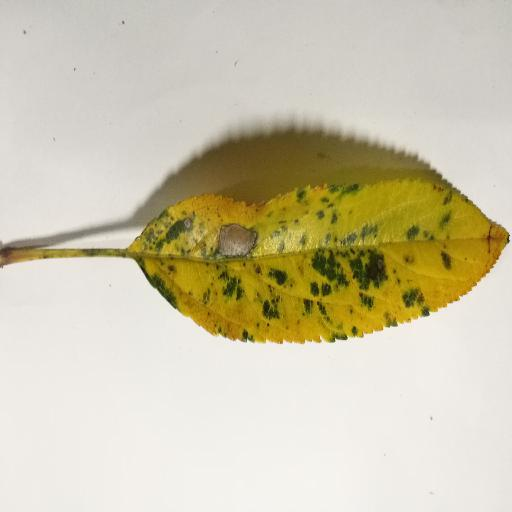Brown_Spot: (212, 218, 273, 265)
